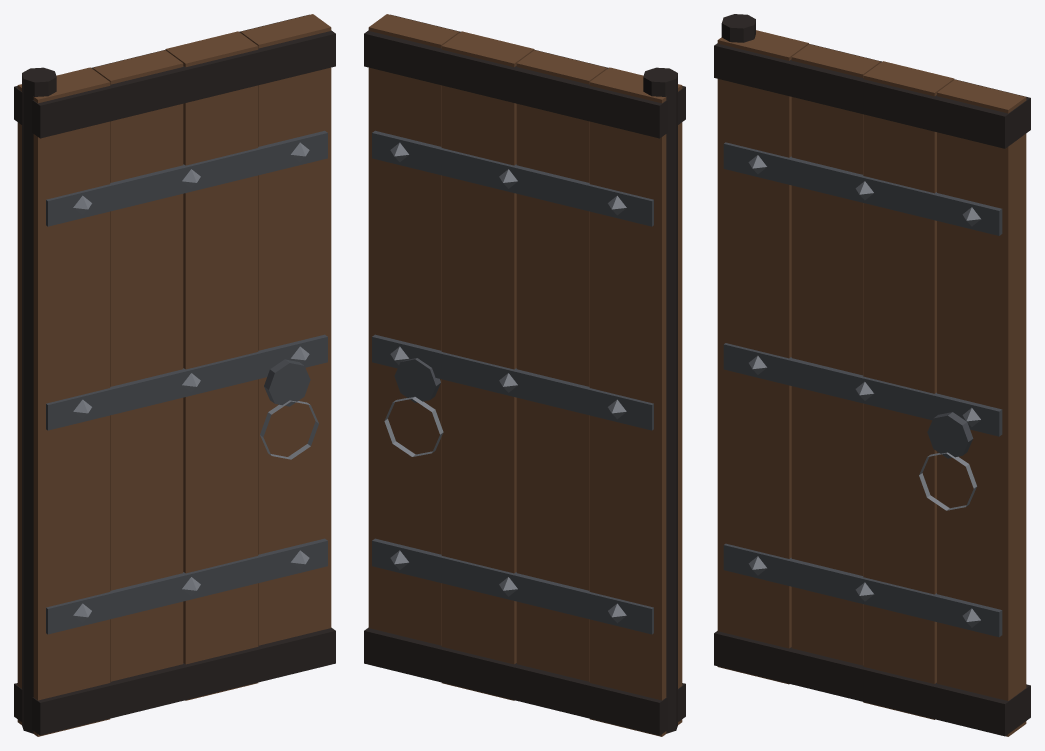
File: wall_gate_door.fbx
The picture shows the model from 3 angles, left to right: view 1: azimuth 30°, elevation 25°; view 2: azimuth 150°, elevation 25°; view 3: azimuth 330°, elevation 25°; orthographic projection.
Visible parts, largest first — view 1: wall_gate_door; view 2: wall_gate_door; view 3: wall_gate_door.
Boxes of the visible parts, x1,y1,x2,y2 form: wall_gate_door: (14,14,335,736); wall_gate_door: (364,14,685,736); wall_gate_door: (714,14,1030,736).
Size of the model in its own units: 1.72 by 3.58 by 0.38.
